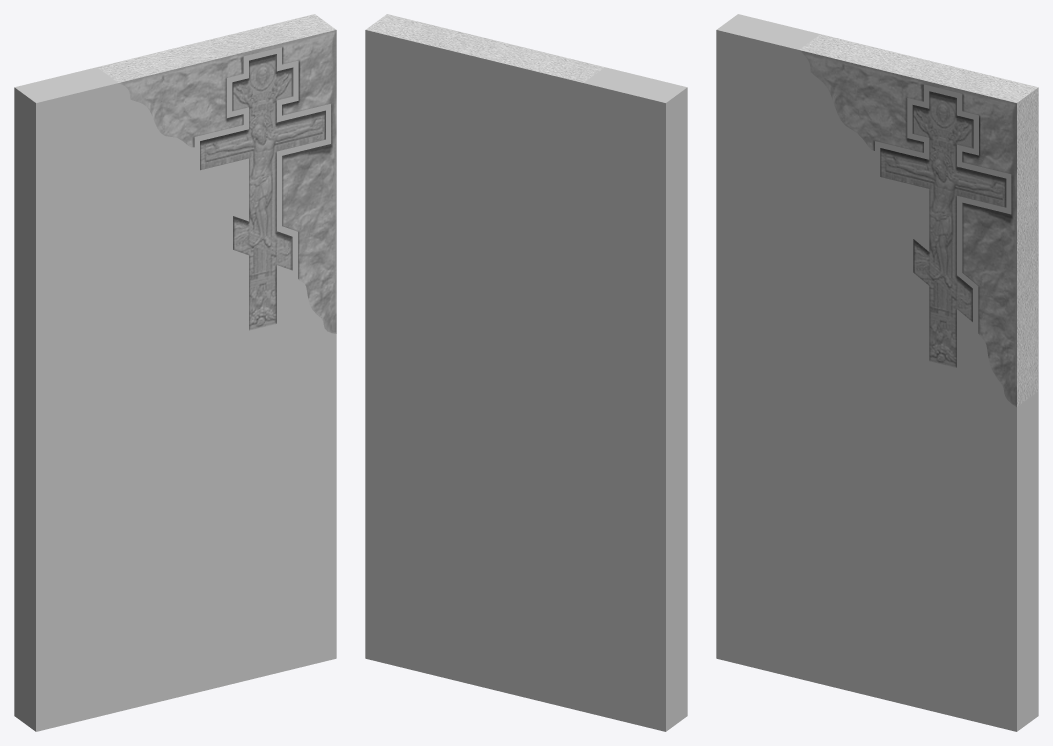
Rendered from cndae259b92c_tkf.glb.
The picture shows the model from 3 angles, left to right: view 1: azimuth 30°, elevation 25°; view 2: azimuth 150°, elevation 25°; view 3: azimuth 330°, elevation 25°; orthographic projection.
Parts seen in each view (by area): view 1: Pam-d03-111, Pam-d03-111_2_notexture; view 2: Pam-d03-111, Pam-d03-111_2_notexture; view 3: Pam-d03-111, Pam-d03-111_2_notexture.
Boxes of the visible parts, left/top/right/bottom form: Pam-d03-111: left=14, top=47, right=336, bottom=731; Pam-d03-111_2_notexture: left=97, top=14, right=336, bottom=333; Pam-d03-111: left=365, top=30, right=687, bottom=731; Pam-d03-111_2_notexture: left=365, top=14, right=604, bottom=82; Pam-d03-111: left=716, top=14, right=1038, bottom=731; Pam-d03-111_2_notexture: left=799, top=34, right=1038, bottom=406.
Bounding box in the file's own units: 0.4 × 0.8 × 0.05.
1 material, 1 textured.
